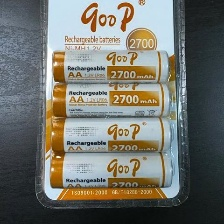battery: (49, 112, 174, 155), (49, 150, 174, 191), (48, 46, 172, 86), (48, 80, 172, 119)
